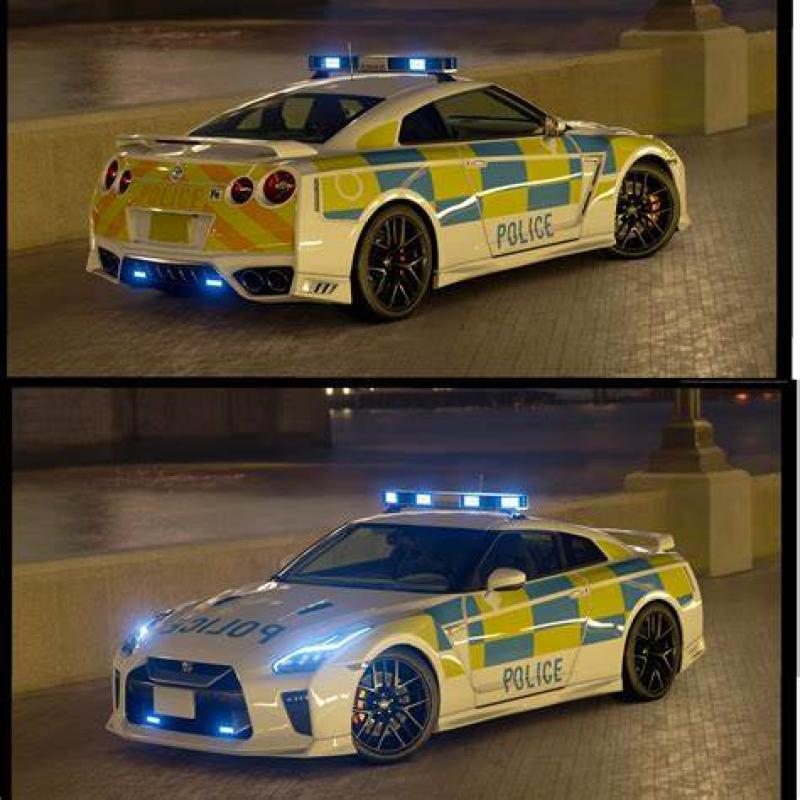AmbulanceSiren: (378, 480, 536, 520), (303, 48, 467, 84)
